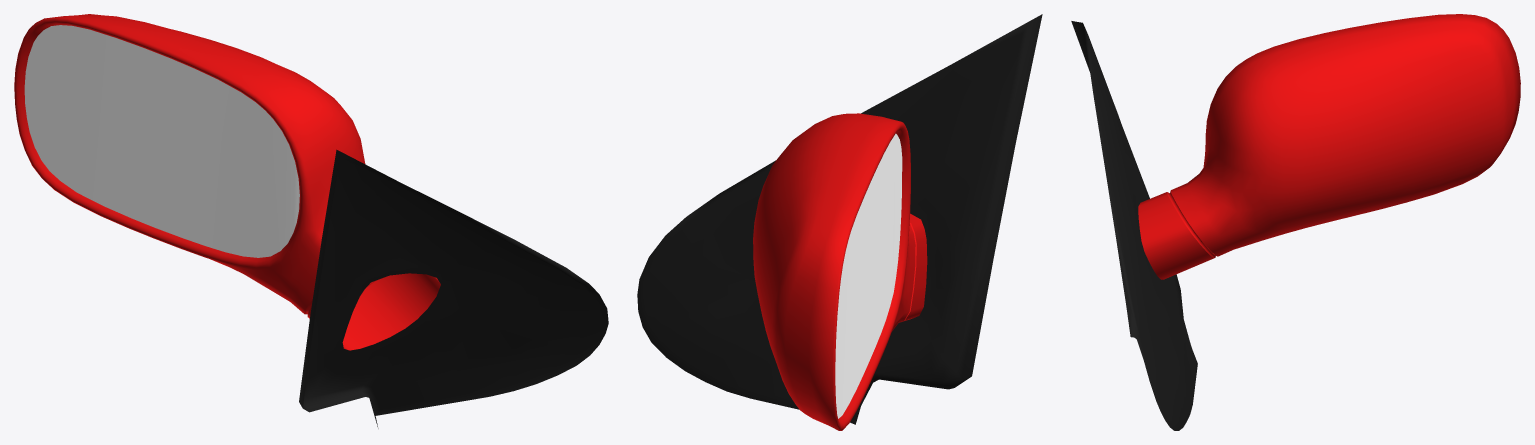
3 renders of one model, left to right at view 1: azimuth 30°, elevation 25°; view 2: azimuth 150°, elevation 25°; view 3: azimuth 270°, elevation 25°, orthographic. The views are drawn at different scales.
Parts seen in each view (by area): view 1: N664_9A_261I_L_N664_9A_261I_L_3_D, N664_9A_261I_L_N664_9A_261I_L_2_DTaSI, N664_9A_261I_L_1_DaS_N664_9A_261I_L; view 2: N664_9A_261I_L_N664_9A_261I_L_3_D, N664_9A_261I_L_1_DaS_N664_9A_261I_L, N664_9A_261I_L_N664_9A_261I_L_2_DTaSI; view 3: N664_9A_261I_L_1_DaS_N664_9A_261I_L, N664_9A_261I_L_N664_9A_261I_L_3_D.
Boxes of the visible parts, bbox=[...] form: N664_9A_261I_L_N664_9A_261I_L_3_D: bbox=[299, 149, 608, 428]; N664_9A_261I_L_N664_9A_261I_L_2_DTaSI: bbox=[24, 25, 299, 257]; N664_9A_261I_L_1_DaS_N664_9A_261I_L: bbox=[14, 14, 440, 350]; N664_9A_261I_L_N664_9A_261I_L_3_D: bbox=[637, 14, 1042, 424]; N664_9A_261I_L_1_DaS_N664_9A_261I_L: bbox=[753, 113, 927, 430]; N664_9A_261I_L_N664_9A_261I_L_2_DTaSI: bbox=[835, 133, 902, 418]; N664_9A_261I_L_1_DaS_N664_9A_261I_L: bbox=[1138, 14, 1520, 279]; N664_9A_261I_L_N664_9A_261I_L_3_D: bbox=[1071, 21, 1197, 430].
Size of the model in its own units: 27.98 by 24.25 by 32.42.
